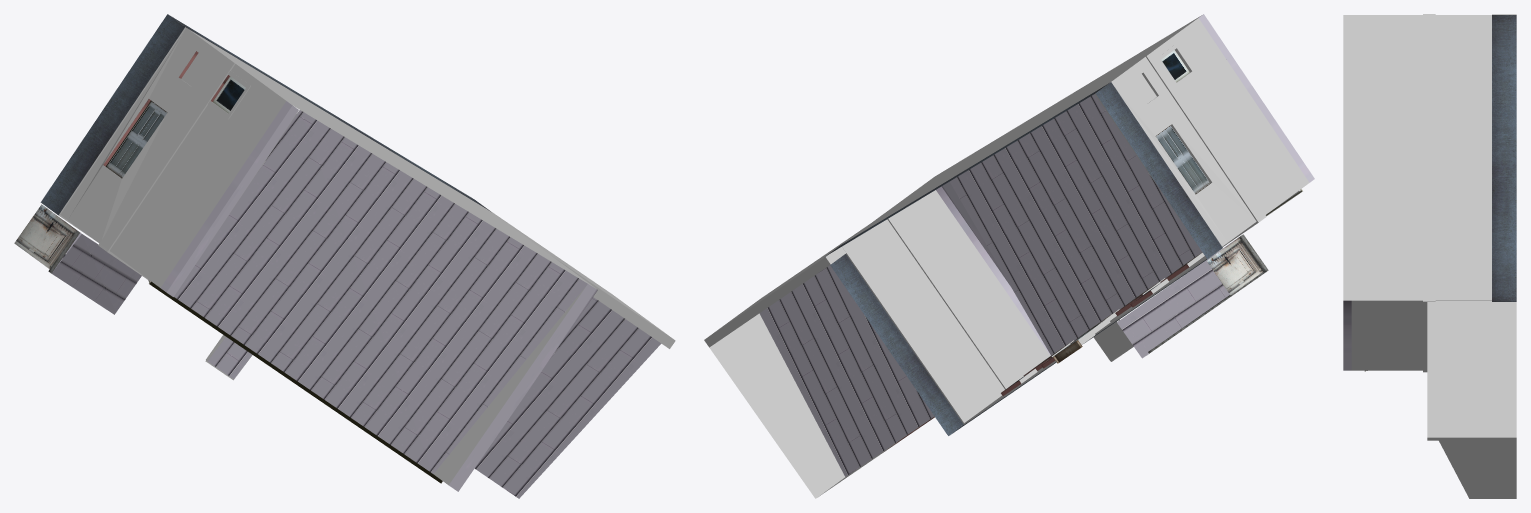
Rendered from Parnu_9a.obj.
3 views of the same model, side by side, from view 1: azimuth 30°, elevation 25°; view 2: azimuth 150°, elevation 25°; view 3: azimuth 270°, elevation 25° (orthographic). The views are drawn at different scales.
Visible parts, largest first — view 1: Parnu_mnt_9a; view 2: Parnu_mnt_9a; view 3: Parnu_mnt_9a.
Boxes of the visible parts, x1,y1,x2,y2 form: Parnu_mnt_9a: (14, 14, 675, 498); Parnu_mnt_9a: (704, 14, 1314, 498); Parnu_mnt_9a: (1343, 14, 1516, 498).
Bounding box in the file's own units: 22.55 × 19.29 × 8.06.
